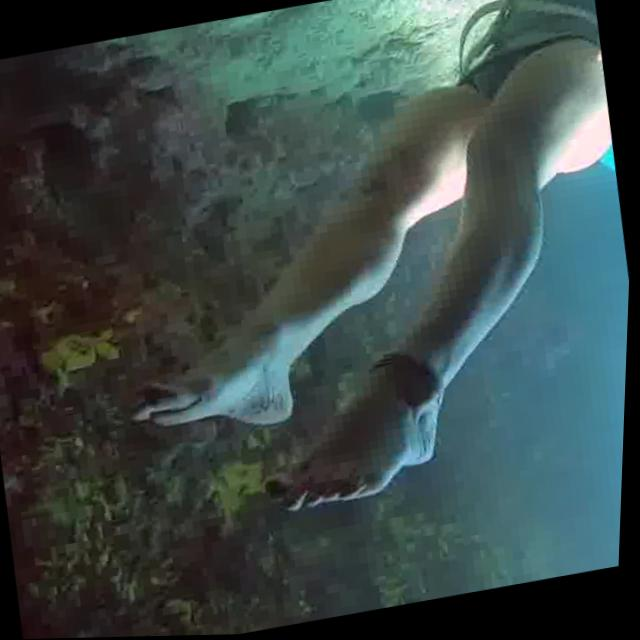human: (42, 0, 640, 566)
